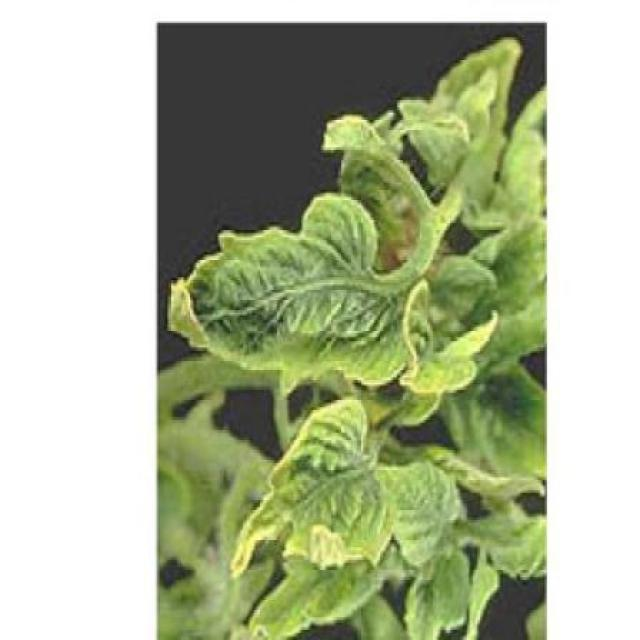Yellow Leaf Curl Virus: (160, 186, 411, 388), (224, 395, 390, 576)
